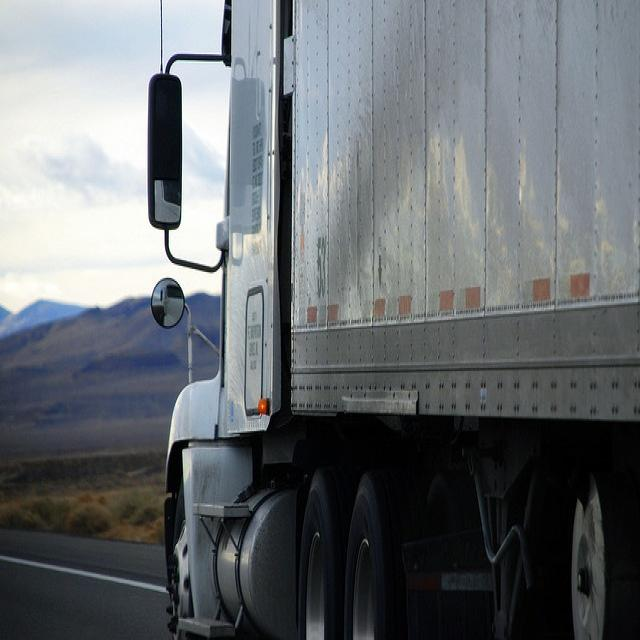truck: (146, 0, 639, 631)
